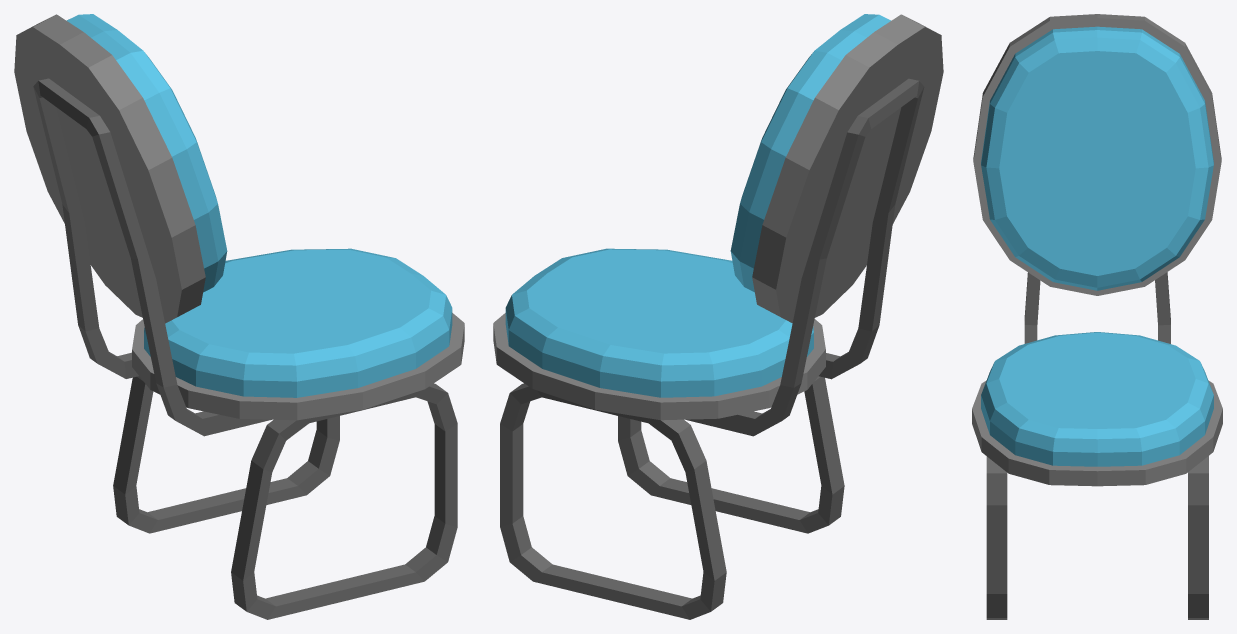
File: chair01-hospital.fbx
3 views of the same model, side by side, from view 1: azimuth 30°, elevation 25°; view 2: azimuth 150°, elevation 25°; view 3: azimuth 270°, elevation 25° (orthographic). The views are drawn at different scales.
Visible parts, largest first — view 1: chair01-hospital; view 2: chair01-hospital; view 3: chair01-hospital.
Boxes of the visible parts, box(x1,y1,x2,y2) form: chair01-hospital: box(14, 14, 464, 619); chair01-hospital: box(493, 14, 943, 619); chair01-hospital: box(972, 14, 1222, 619).
Bounding box in the file's own units: 174 × 250 × 117.
